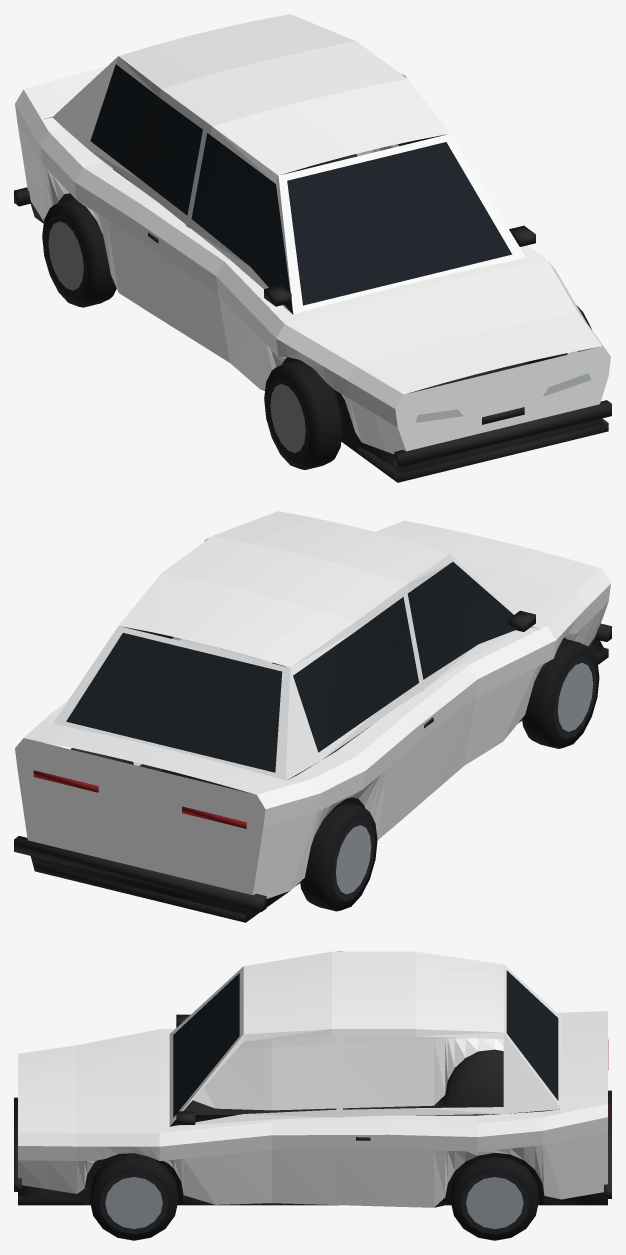
Rendered from vorhaus_lapa.glb.
The picture shows the model from 3 angles, top to bottom: view 1: azimuth 30°, elevation 25°; view 2: azimuth 150°, elevation 25°; view 3: azimuth 270°, elevation 25°; orthographic projection. The views are drawn at different scales.
Visible parts, largest first — view 1: Body_Paint, Body_Details, Mount_FrontLeft_Wheel_Details, Mount_RearLeft_Wheel_Details; view 2: Body_Paint, Body_Details, Mount_RearLeft_Wheel_Details, Mount_FrontLeft_Wheel_Details; view 3: Body_Paint, Body_Details, Mount_FrontRight_Wheel_Details, Mount_RearRight_Wheel_Details.
Part boxes in pixels (x1=…): Body_Paint: x1=15, y1=14, x2=610, y2=454; Body_Details: x1=14, y1=64, x2=611, y2=482; Mount_FrontLeft_Wheel_Details: x1=264, y1=360, x2=342, y2=469; Mount_RearLeft_Wheel_Details: x1=42, y1=198, x2=116, y2=307; Body_Paint: x1=15, y1=511, x2=610, y2=898; Body_Details: x1=14, y1=562, x2=611, y2=922; Mount_RearLeft_Wheel_Details: x1=300, y1=803, x2=377, y2=911; Mount_FrontLeft_Wheel_Details: x1=522, y1=638, x2=599, y2=748; Body_Paint: x1=18, y1=951, x2=607, y2=1207; Body_Details: x1=14, y1=970, x2=611, y2=1207; Mount_FrontRight_Wheel_Details: x1=89, y1=1153, x2=178, y2=1240; Mount_RearRight_Wheel_Details: x1=450, y1=1156, x2=539, y2=1240.
Bounding box in the file's own units: 1.85 × 1.48 × 4.05.
2 materials, 1 textured.
